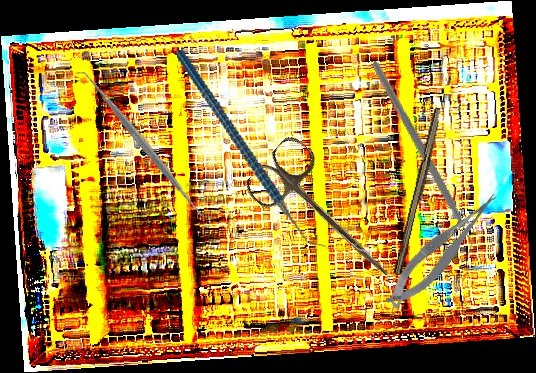Chopper: (311, 61, 529, 260), (175, 26, 328, 275)
Iris Scissors: (240, 132, 416, 300)
Micro Scissor: (373, 187, 514, 315)
Scalpel Handle: (393, 106, 445, 277)
Spatula Surgical: (73, 60, 217, 231)
